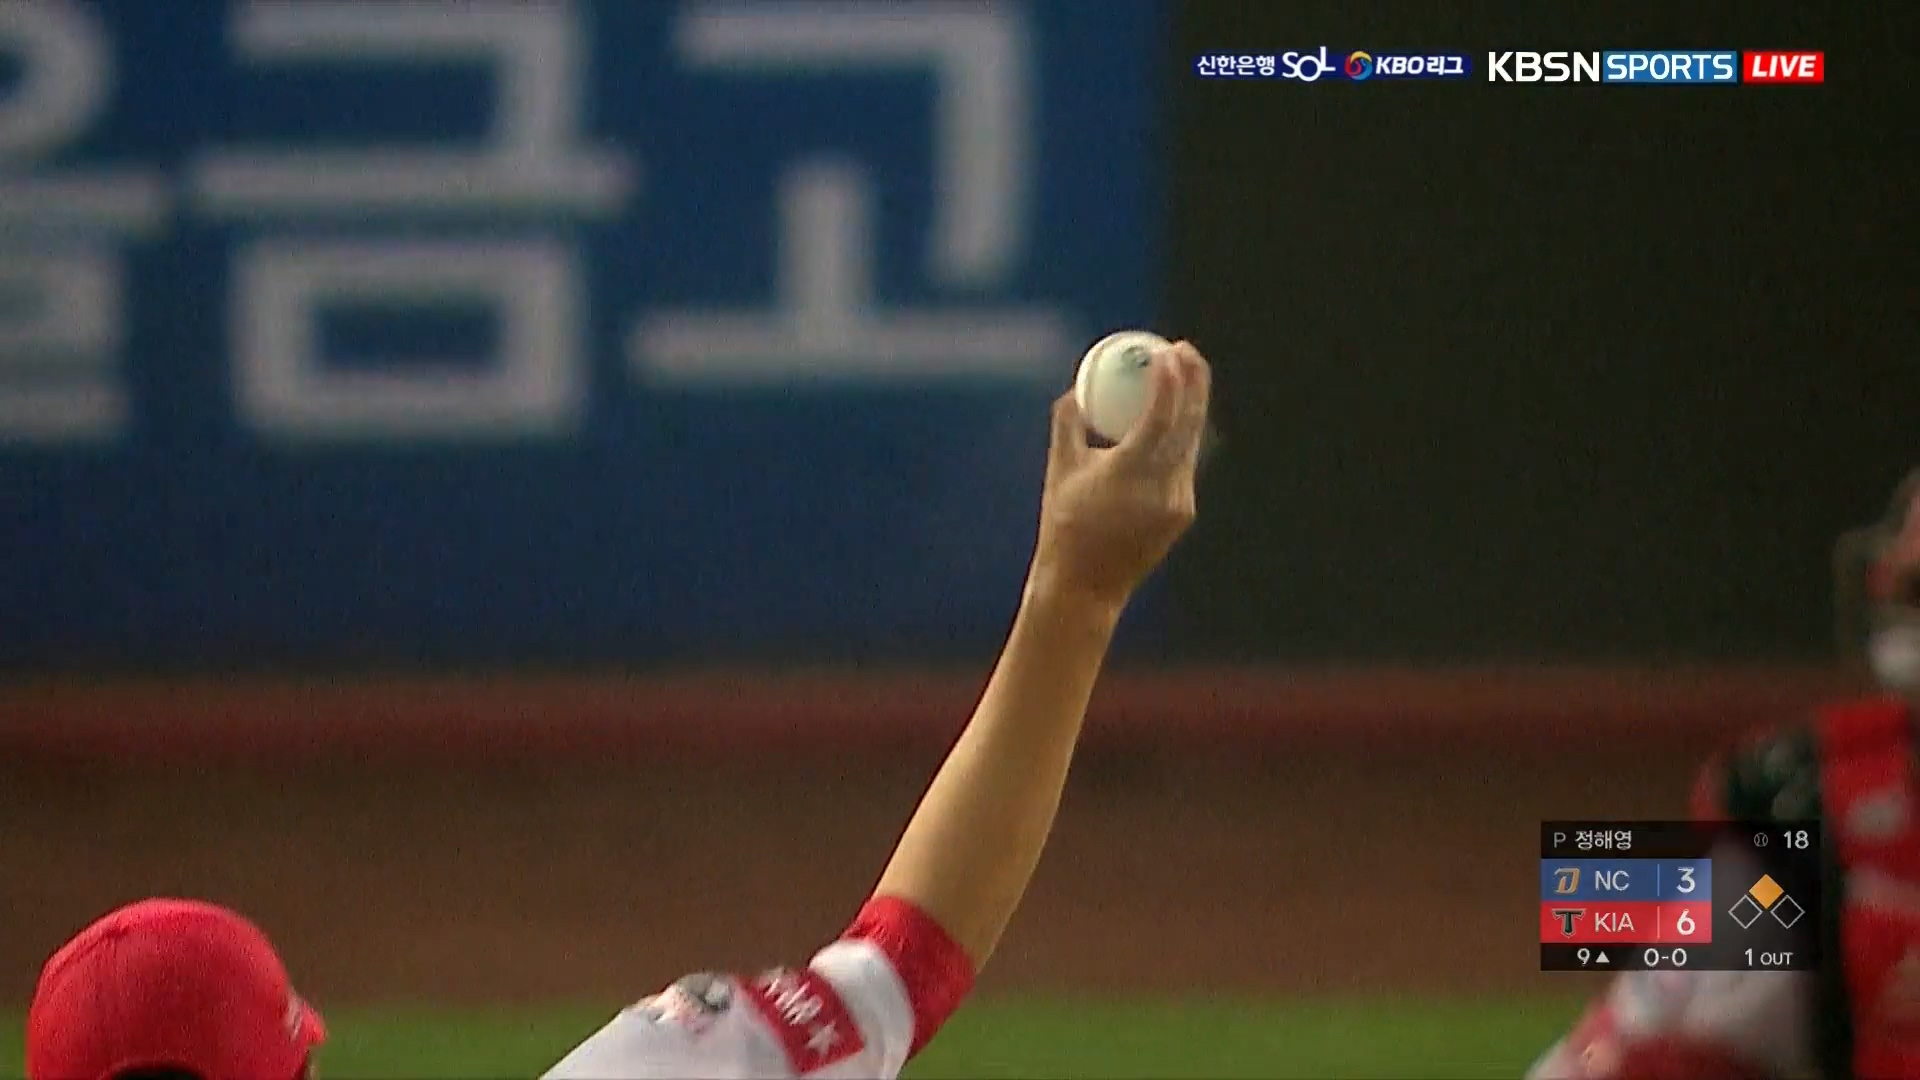zoomin_hand: (857, 316, 1232, 1034)
